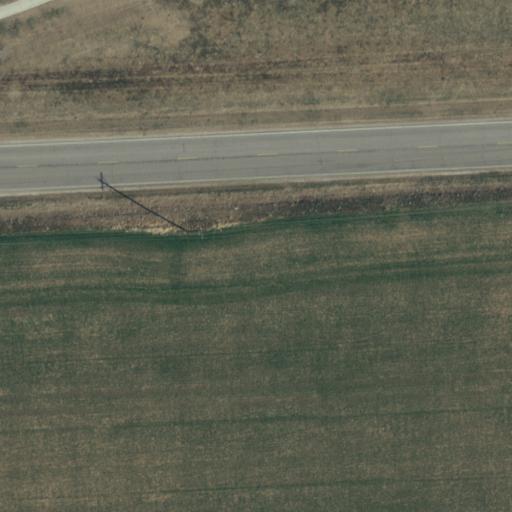DT: (176, 218, 208, 243)
